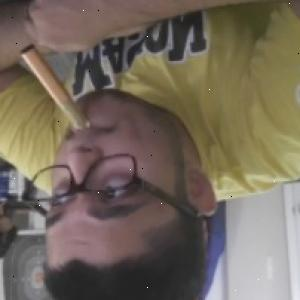Golden-E-Ciggirate: (19, 43, 85, 134)
